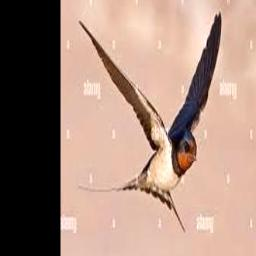Swallow: (78, 12, 222, 233)
